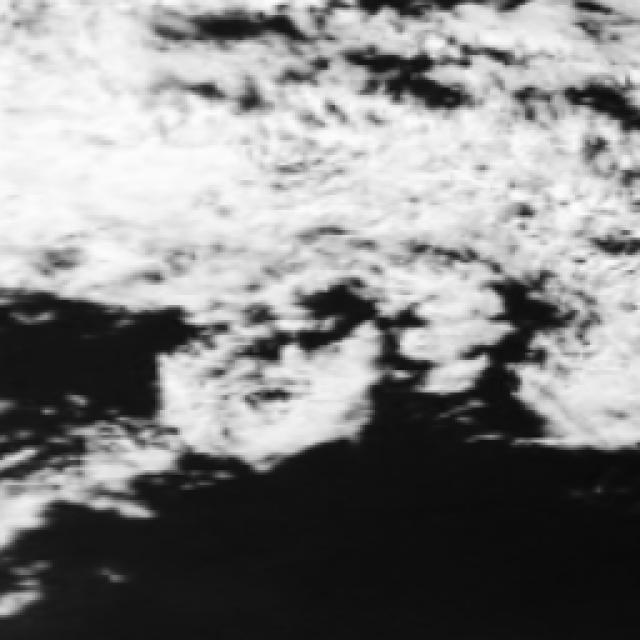CB: (0, 34, 137, 236), (60, 117, 232, 233)
